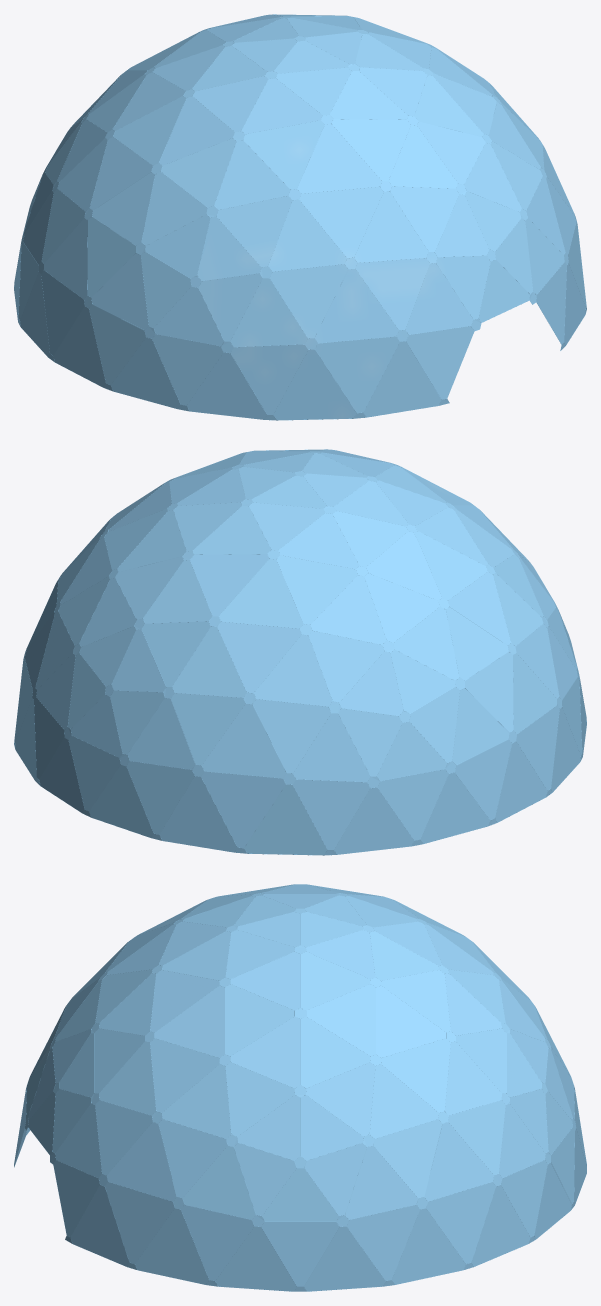
Rendered from Domo.fbx.
The picture shows the model from 3 angles, top to bottom: view 1: azimuth 30°, elevation 25°; view 2: azimuth 150°, elevation 25°; view 3: azimuth 270°, elevation 25°; orthographic projection.
Visible parts, largest first — view 1: Domo; view 2: Domo; view 3: Domo.
Boxes of the visible parts, x1,y1,x2,y2 form: Domo: (14, 14, 586, 420); Domo: (14, 449, 586, 855); Domo: (14, 884, 586, 1291).
Bounding box in the file's own units: 7410 × 3708 × 7410.
